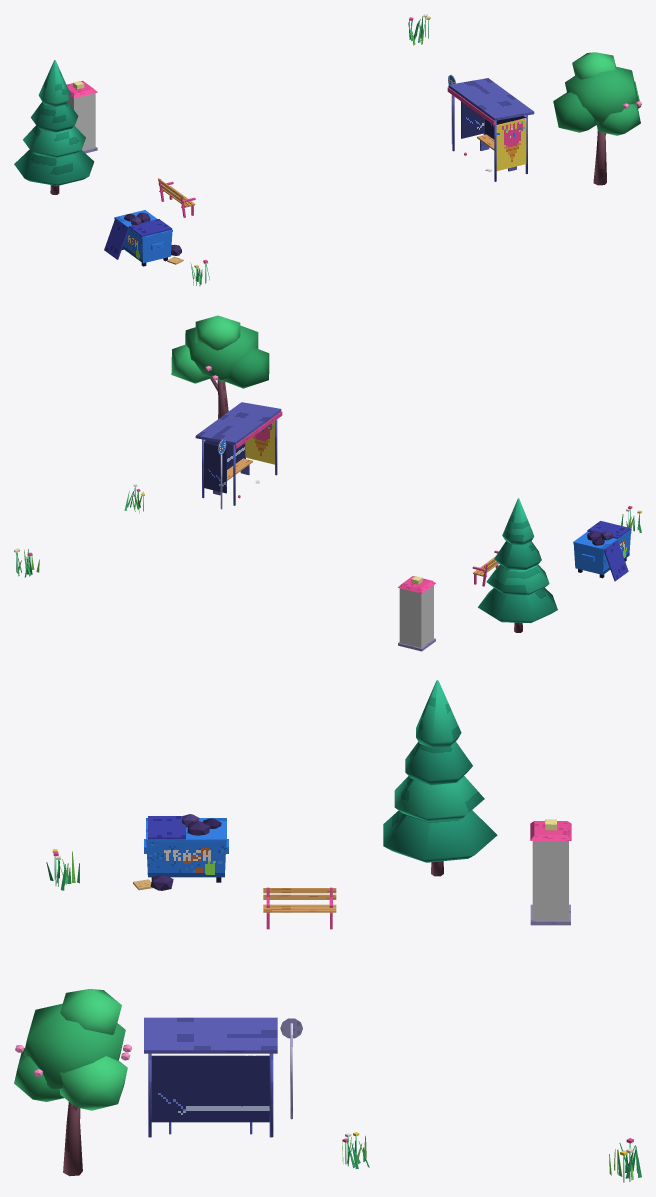
The model's file is Town Straight Dressing.fbx.
3 renders of one model, top to bottom at view 1: azimuth 30°, elevation 25°; view 2: azimuth 150°, elevation 25°; view 3: azimuth 270°, elevation 25°, orthographic. The views are drawn at different scales.
Visible parts, largest first — view 1: Town Straight Dressing mesh; view 2: Town Straight Dressing mesh; view 3: Town Straight Dressing mesh.
Boxes of the visible parts, bbox=[...] form: Town Straight Dressing mesh: bbox=[14, 14, 641, 286]; Town Straight Dressing mesh: bbox=[14, 315, 641, 651]; Town Straight Dressing mesh: bbox=[14, 680, 641, 1182].
Bounding box in the file's own units: 20.66 × 5.28 × 15.51.
